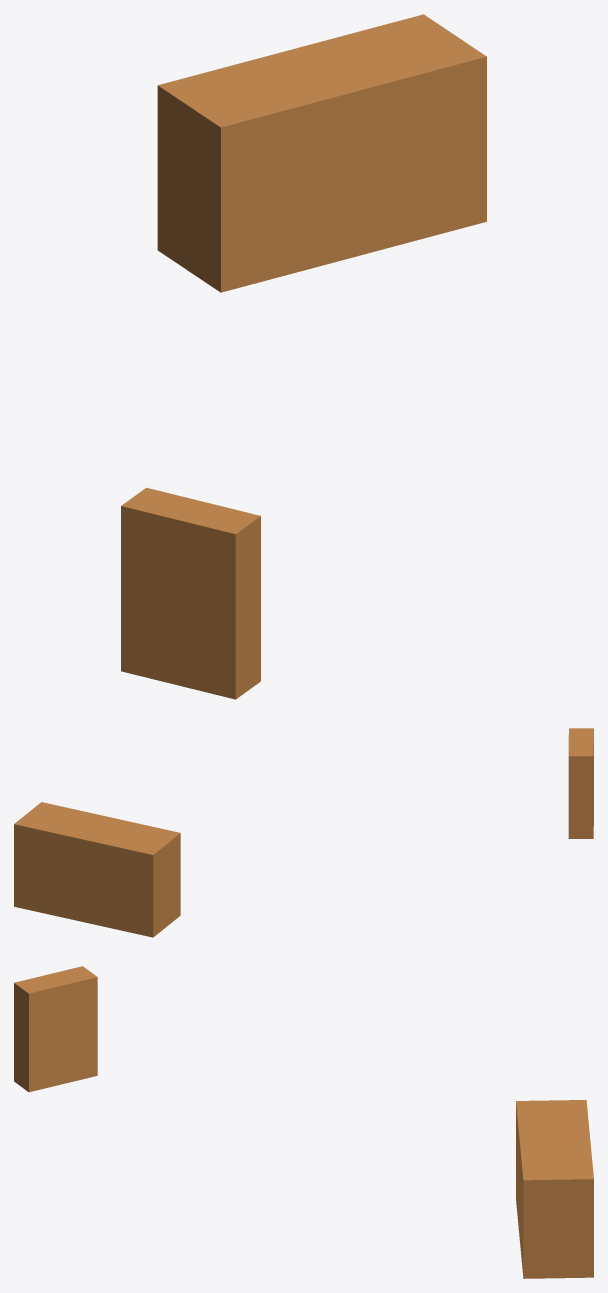
File: g1_18_parkour_props.glb
The picture shows the model from 3 angles, top to bottom: view 1: azimuth 30°, elevation 25°; view 2: azimuth 150°, elevation 25°; view 3: azimuth 270°, elevation 25°; orthographic projection. The views are drawn at different scales.
Visible parts, largest first — view 1: s000, s001; view 2: s000, s001; view 3: s000, s001.
Part boxes in pixels (x1,y1,x2,y2): s000: [157, 14, 486, 292]; s001: [121, 487, 260, 699]; s000: [14, 802, 180, 937]; s001: [568, 728, 593, 838]; s000: [516, 1100, 593, 1278]; s001: [14, 966, 97, 1092].
Bounding box in the file's own units: 2.94 × 0.6315 × 3.36.
